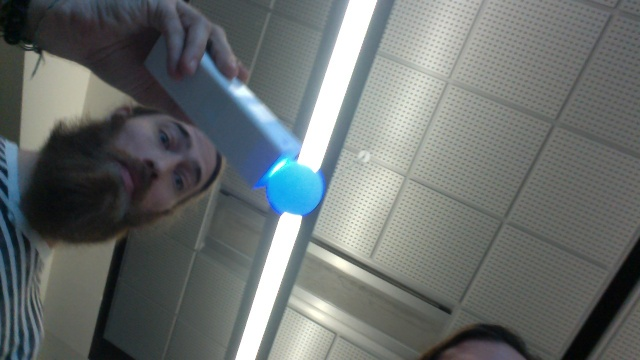wand: (268, 166, 324, 216)
